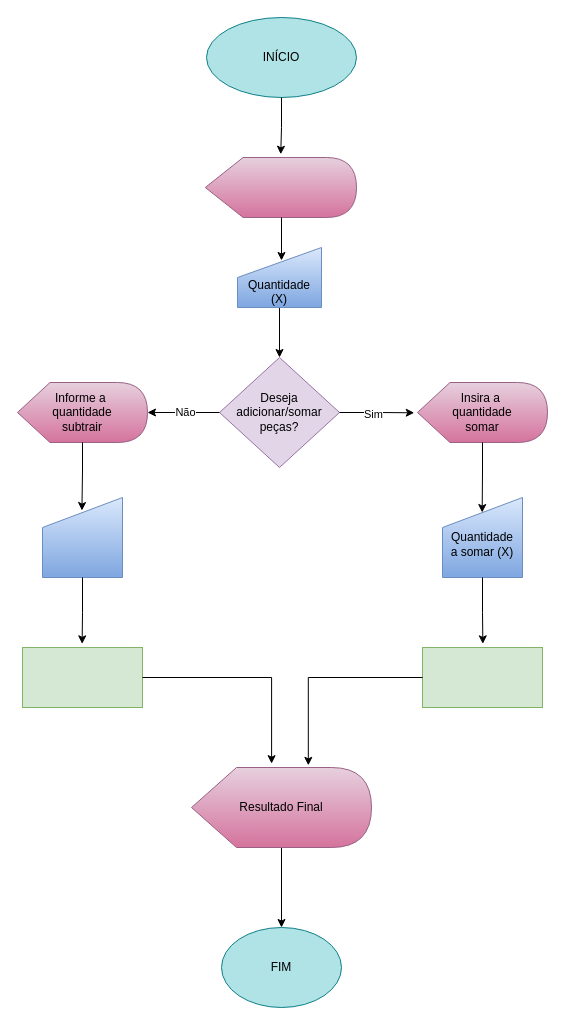
Image size: 565x1025. Some labels were removed from this diagram. Each missing label, with the centre of its shape:
"Insira a quantidade inicial de peças no sistema" goes at point 280,187.
"Quantidade a subtrair (x)" goes at point 82,537.
"X + Z" goes at point 482,677.
"X - Y" goes at point 82,677.
